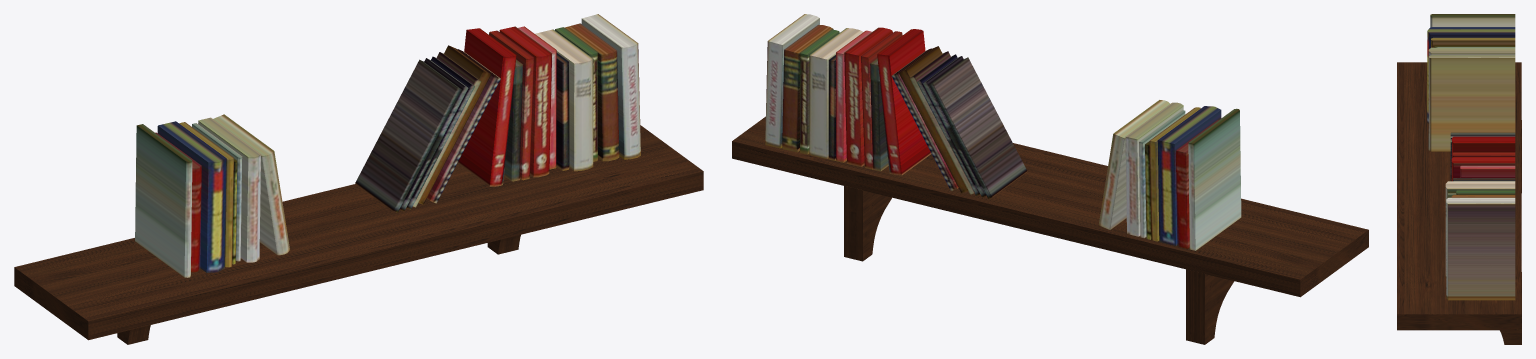
Rendered from Shelf 2.FBX.
3 renders of one model, left to right at view 1: azimuth 30°, elevation 25°; view 2: azimuth 150°, elevation 25°; view 3: azimuth 270°, elevation 25°, orthographic. The views are drawn at different scales.
Visible parts, largest first — view 1: books, shelf 2; view 2: books, shelf 2; view 3: books, shelf 2.
Boxes of the visible parts, x1,y1,x2,y2 form: books: (135, 14, 640, 277); shelf 2: (14, 125, 703, 344); books: (765, 14, 1241, 250); shelf 2: (732, 116, 1368, 344); books: (1427, 14, 1515, 300); shelf 2: (1397, 62, 1521, 344).
Bounding box in the file's own units: 127 × 44.52 × 26.5.
2 materials, 2 textured.
